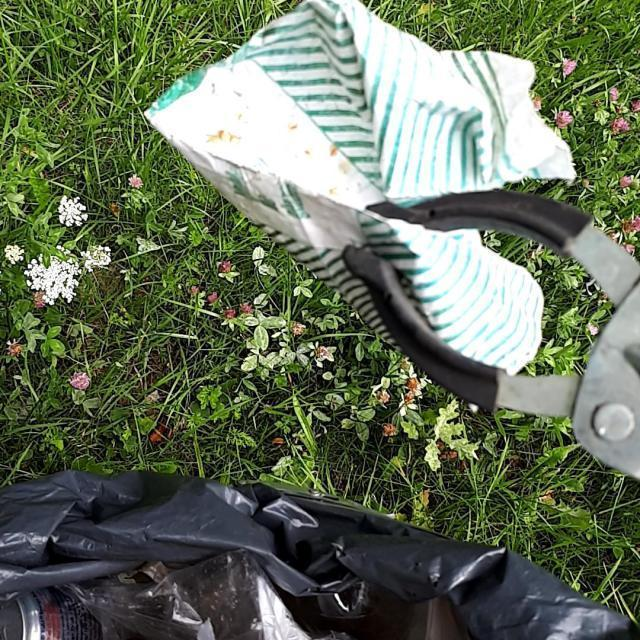Can-Metal: (1, 584, 136, 640)
Paper: (137, 0, 579, 376)
